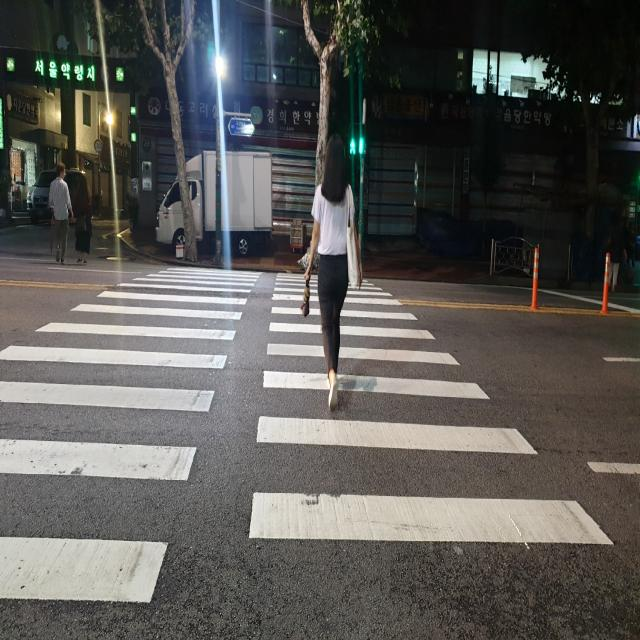횡단보도: (0, 261, 618, 614)
